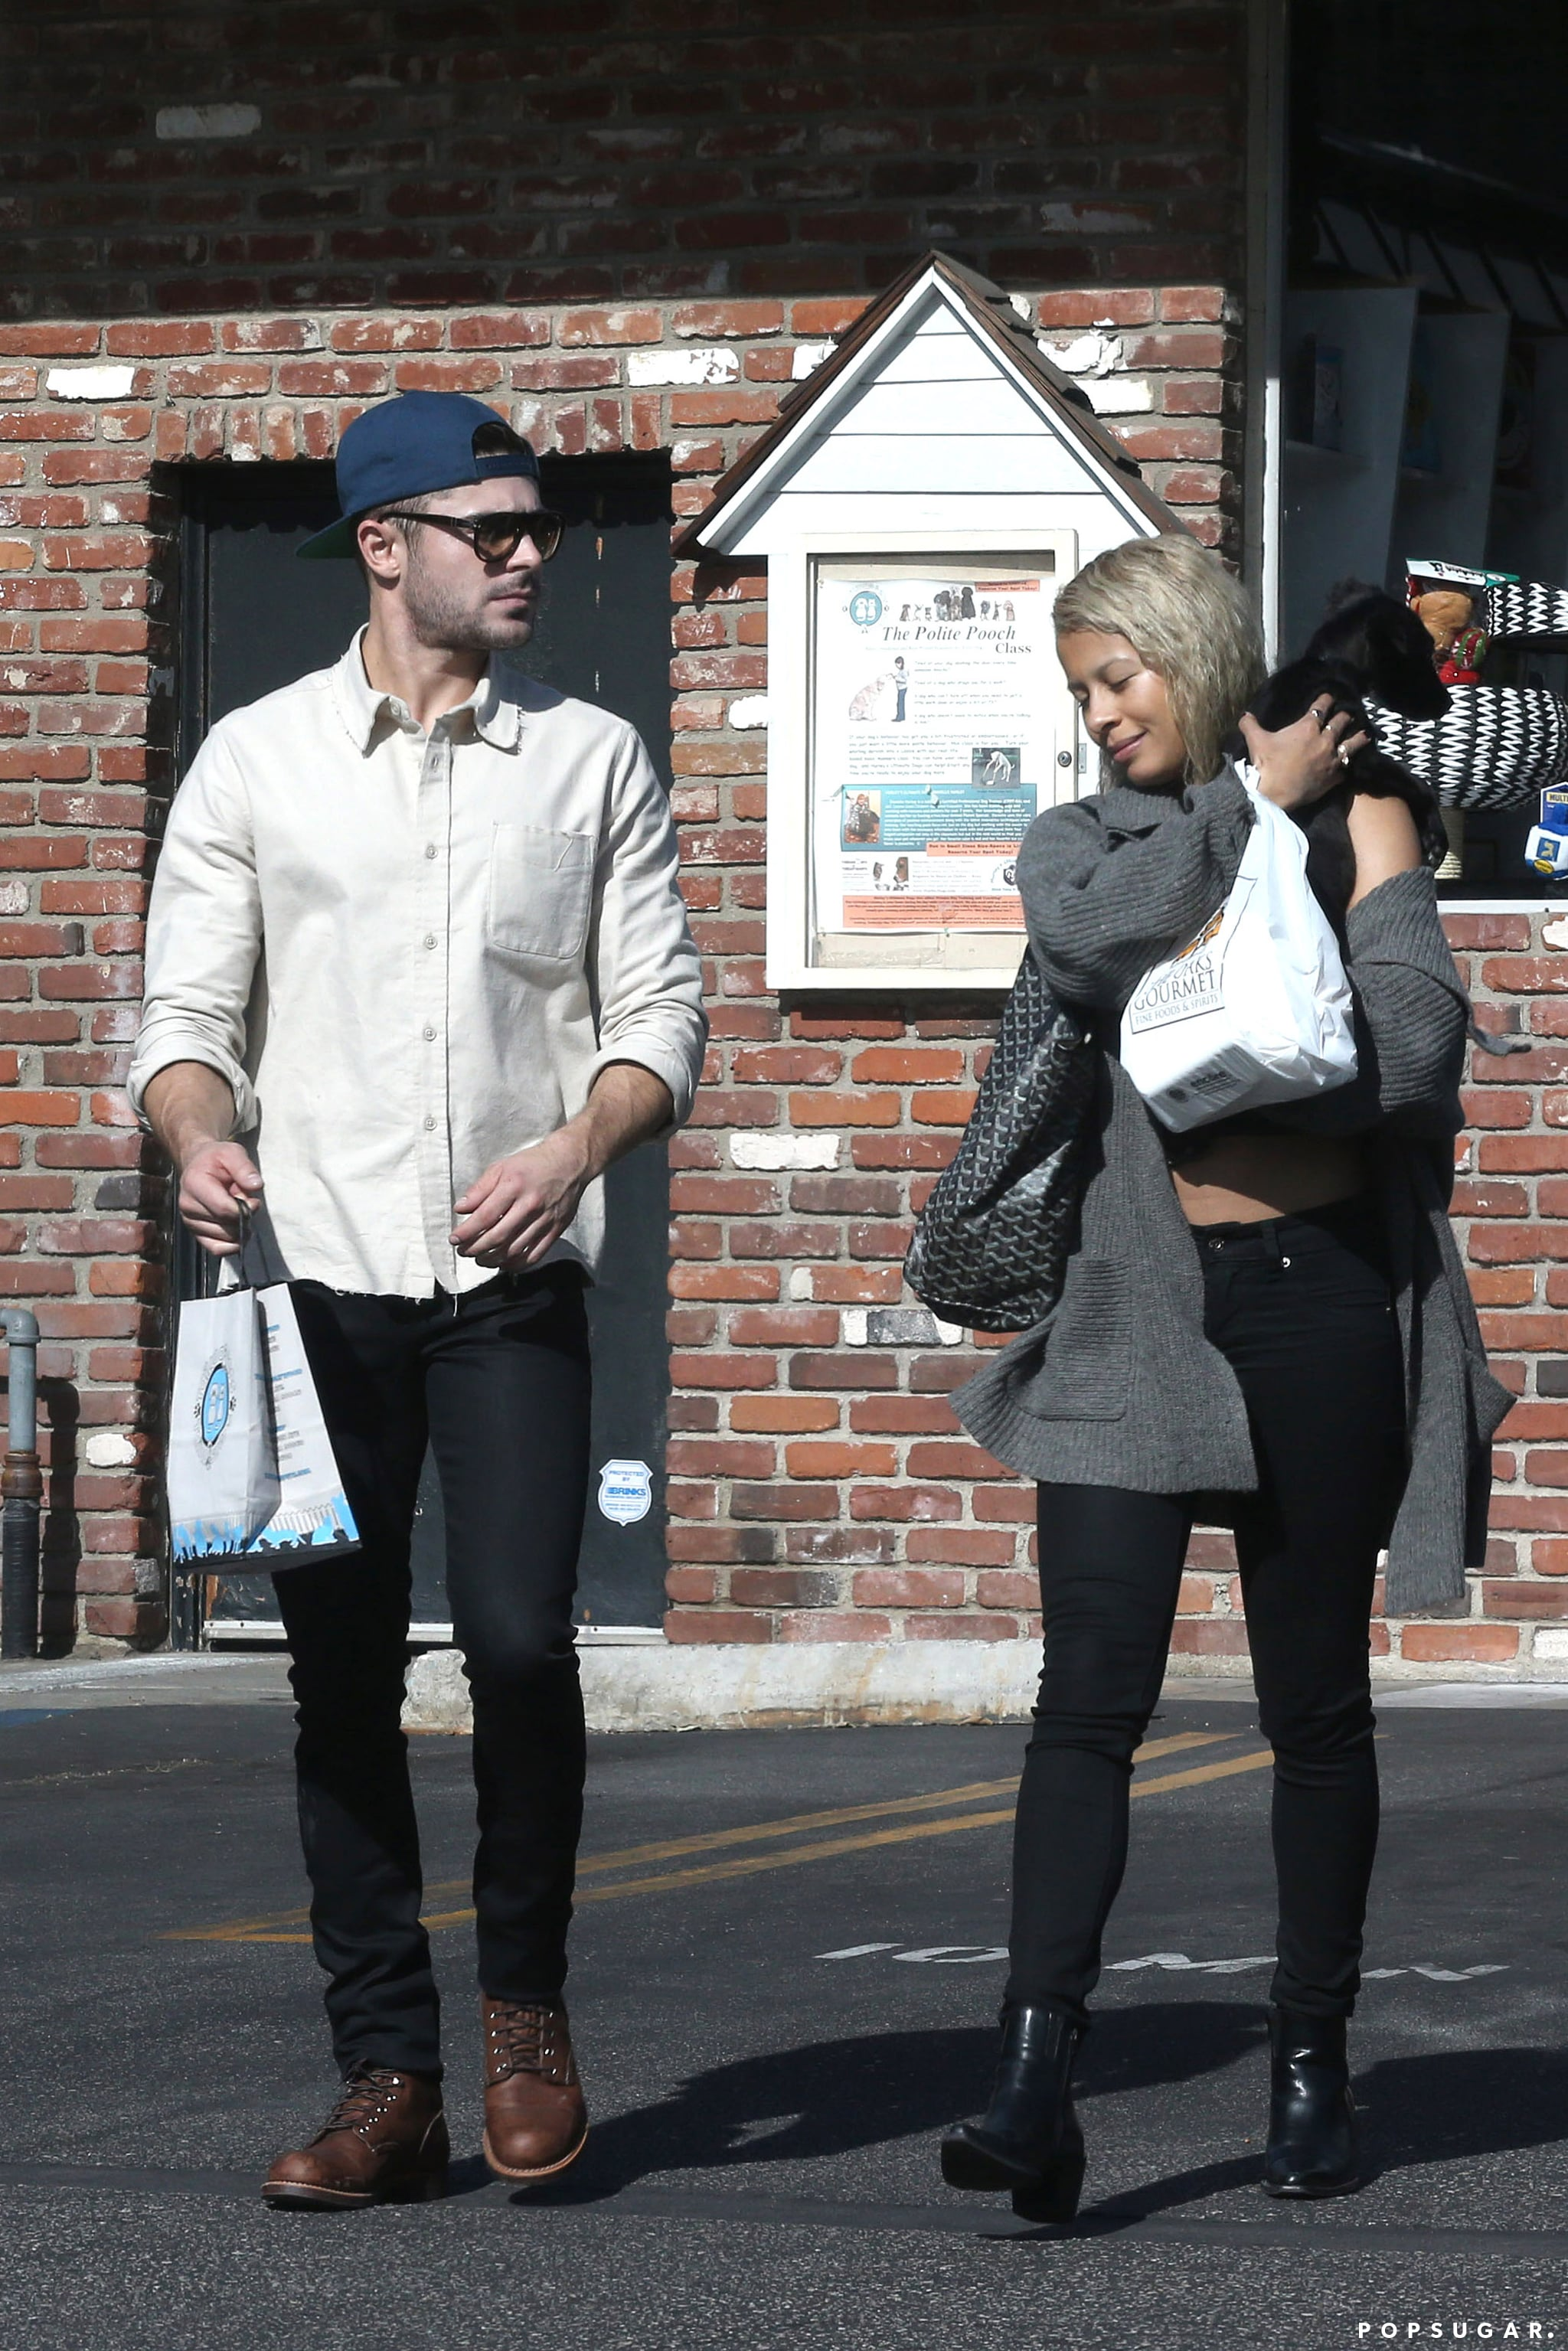Person: (129, 387, 714, 2226), (905, 527, 1479, 2234)
